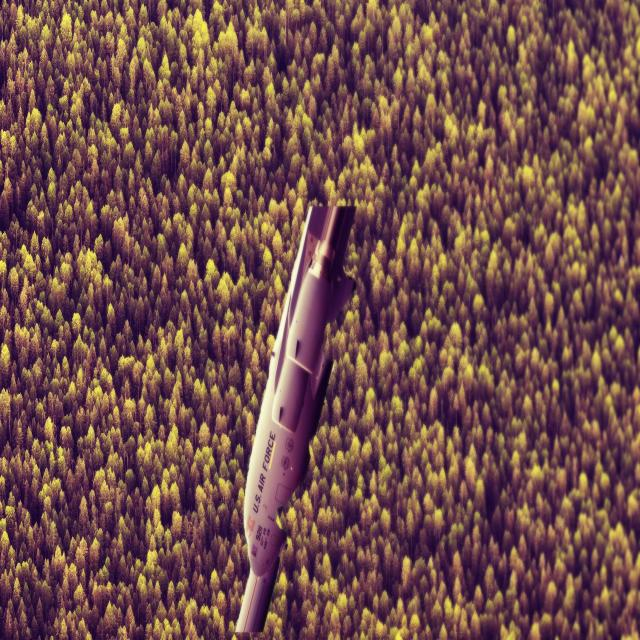airplane: (234, 203, 357, 634)
